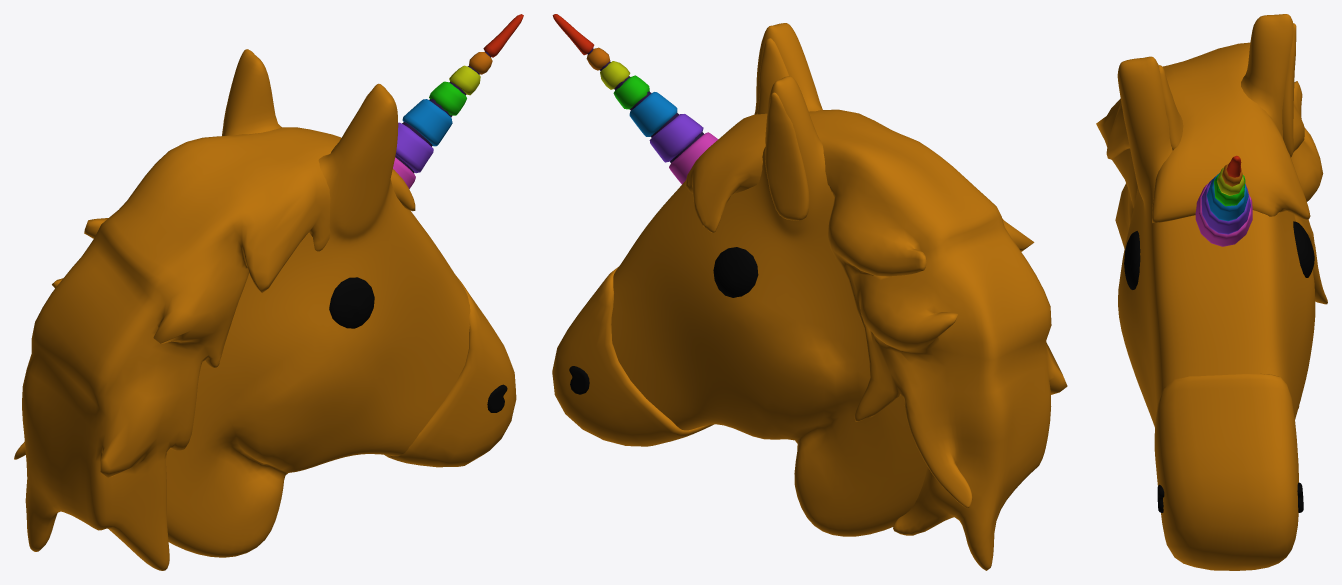
Rendered from unicorn FBX.FBX.
3 views of the same model, side by side, from view 1: azimuth 30°, elevation 25°; view 2: azimuth 150°, elevation 25°; view 3: azimuth 270°, elevation 25° (orthographic). The views are drawn at different scales.
Parts seen in each view (by area): view 1: Group32228, Group53749, Horse5, Horse4, Group2, Group4, Group3; view 2: Group32228, Group53749, Horse5, Horse2, Horse4, Group4, Group2, Group5, Group3; view 3: Group53749, Horse5, Group32228, Horse2, Horse4, Group5, Group4, Group2, Group3, Horse6, Group1.
Part boxes in pixels (x1,y1,x2,y2): Group32228: (14,127,415,570); Group53749: (166,49,470,557); Horse5: (385,276,516,467); Horse4: (329,277,374,328); Group2: (402,99,452,146); Group4: (395,122,433,173); Group3: (429,81,466,115); Group32228: (685,109,1067,570); Group53749: (611,23,926,536); Horse5: (552,266,713,446); Horse2: (757,38,809,220); Horse4: (713,247,758,297); Group4: (649,114,703,162); Group2: (629,92,677,136); Group5: (669,132,718,184); Group3: (613,75,649,109); Group53749: (1117,14,1315,427); Horse5: (1154,373,1298,570); Group32228: (1096,42,1327,408); Horse2: (1159,23,1296,157); Horse4: (1124,221,1314,289); Group5: (1195,183,1252,246); Group4: (1201,178,1250,234); Group2: (1206,173,1248,221); Group3: (1214,173,1245,206); Horse6: (1157,482,1303,512); Group1: (1217,167,1244,195).
Bounding box in the file's own units: 21.2 × 19.19 × 8.18.
